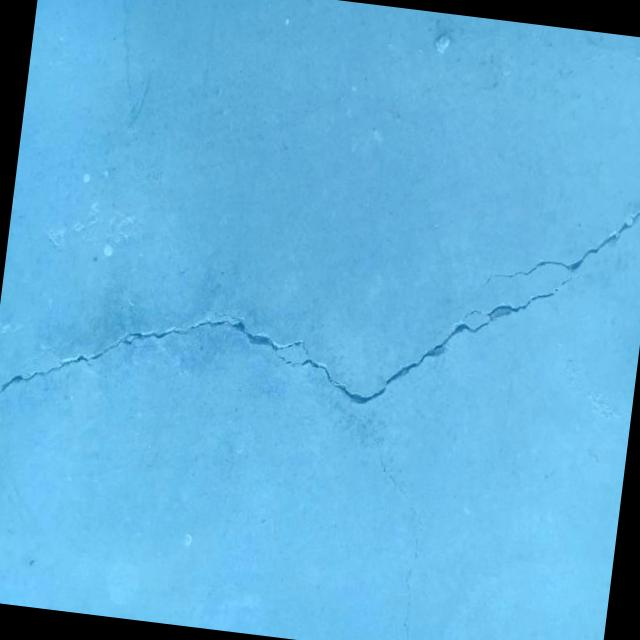crack: (0, 126, 640, 475), (330, 417, 435, 640)
